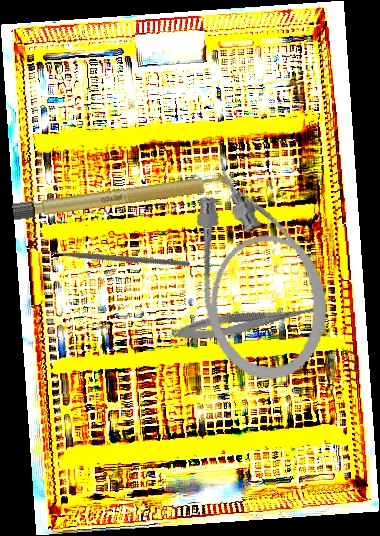Cannula: (178, 143, 340, 391)
Chopper: (39, 185, 191, 322)
Micro Scissor: (169, 293, 332, 347)
Scalpel Handle: (11, 172, 236, 222)
